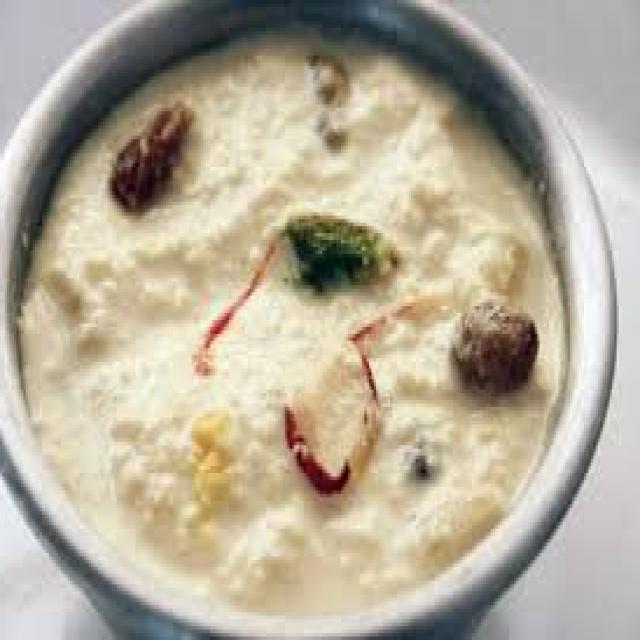Kheer: (34, 40, 554, 586)
